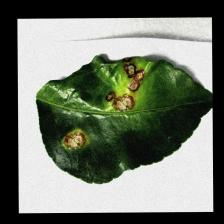canker: (50, 63, 161, 164)
